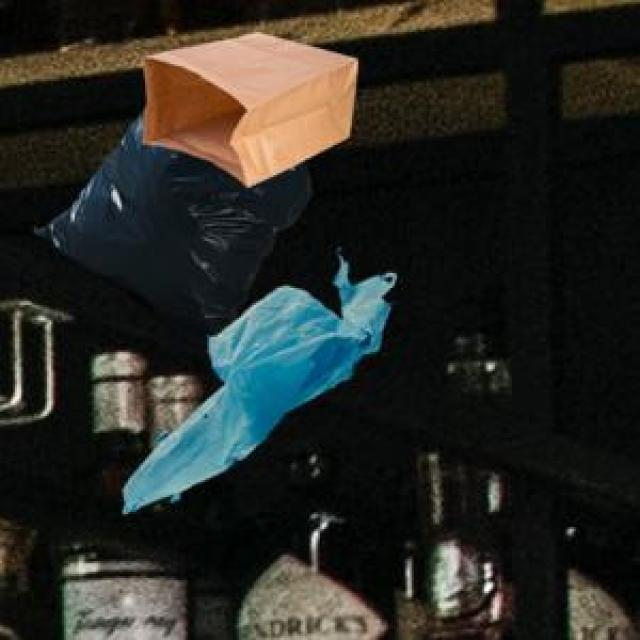miscellaneous trash: (30, 107, 307, 348)
paper: (139, 30, 353, 184)
